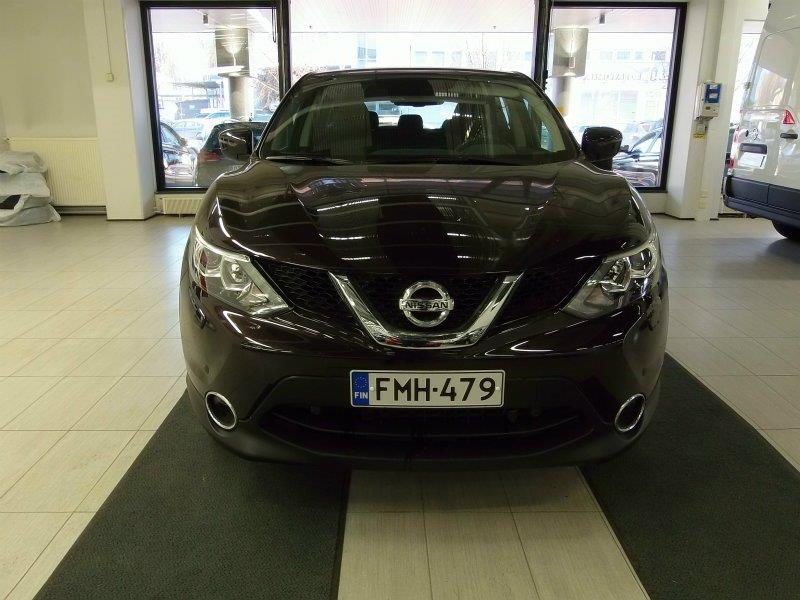license: (347, 366, 500, 411)
